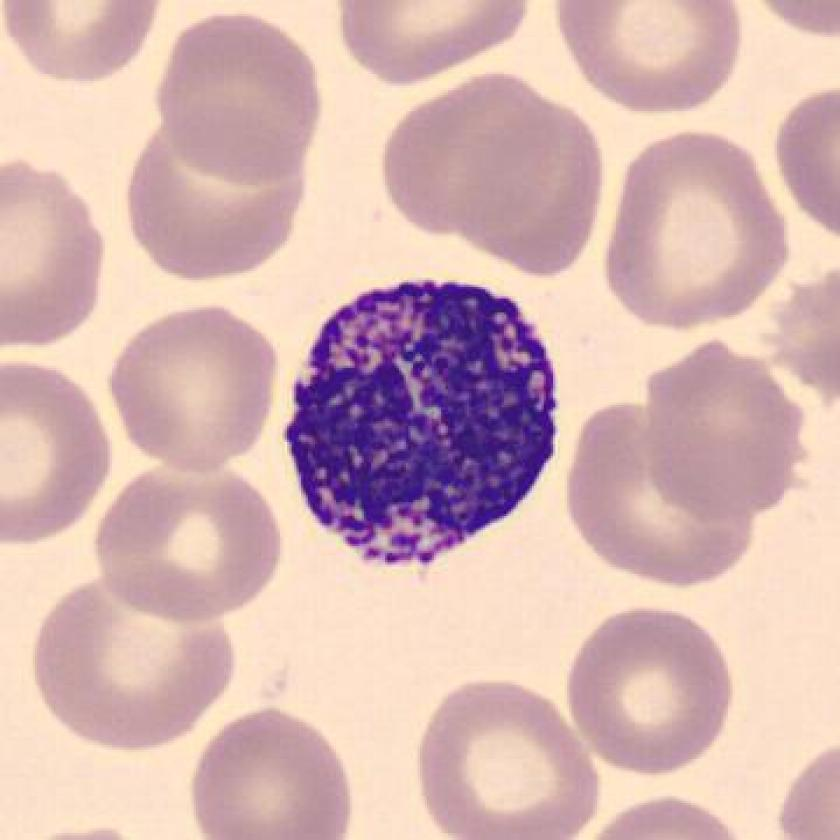basophil: (281, 269, 573, 575)
